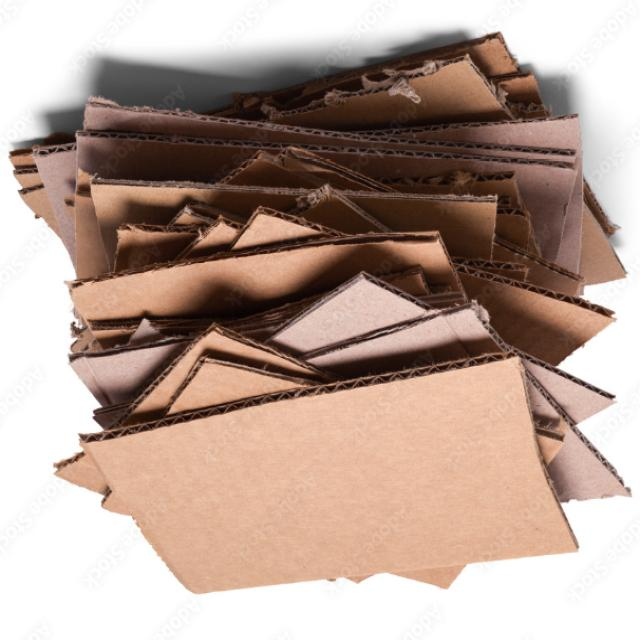Kardus: (8, 31, 630, 596), (54, 352, 582, 596)
